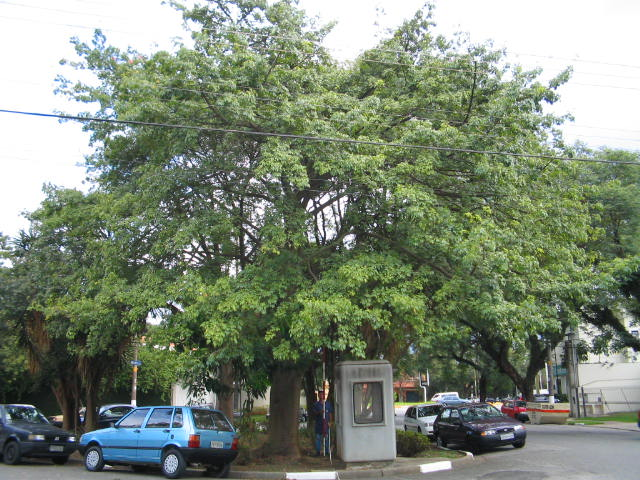crown: (31, 2, 627, 377)
stem: (247, 368, 311, 457)
stick: (316, 345, 329, 458)
tree: (28, 1, 627, 457)
